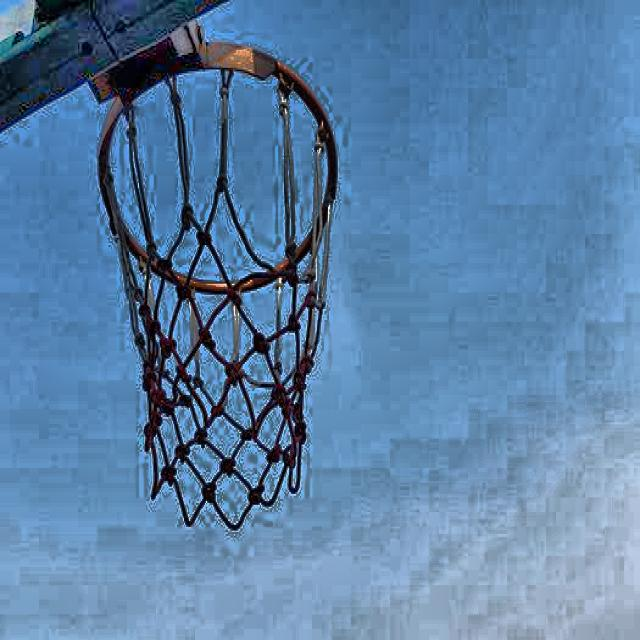rim: (98, 43, 340, 526)
